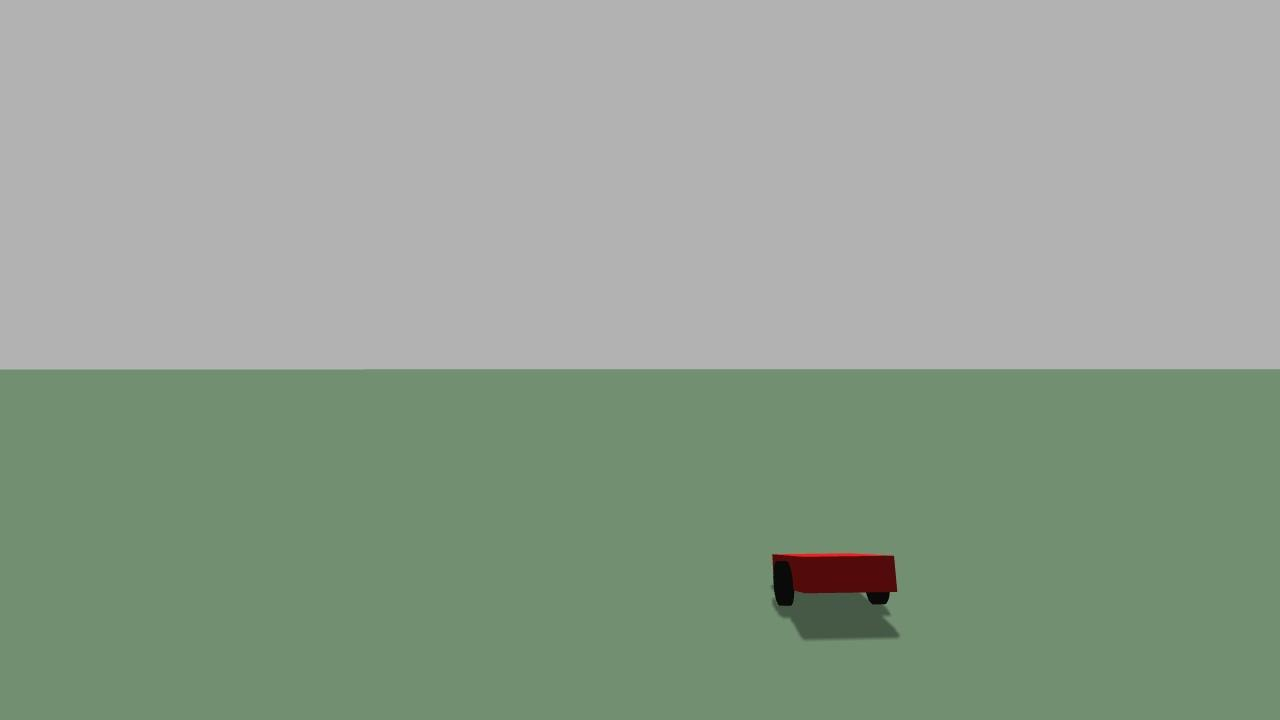ground_vehicle: (762, 539, 905, 619)
